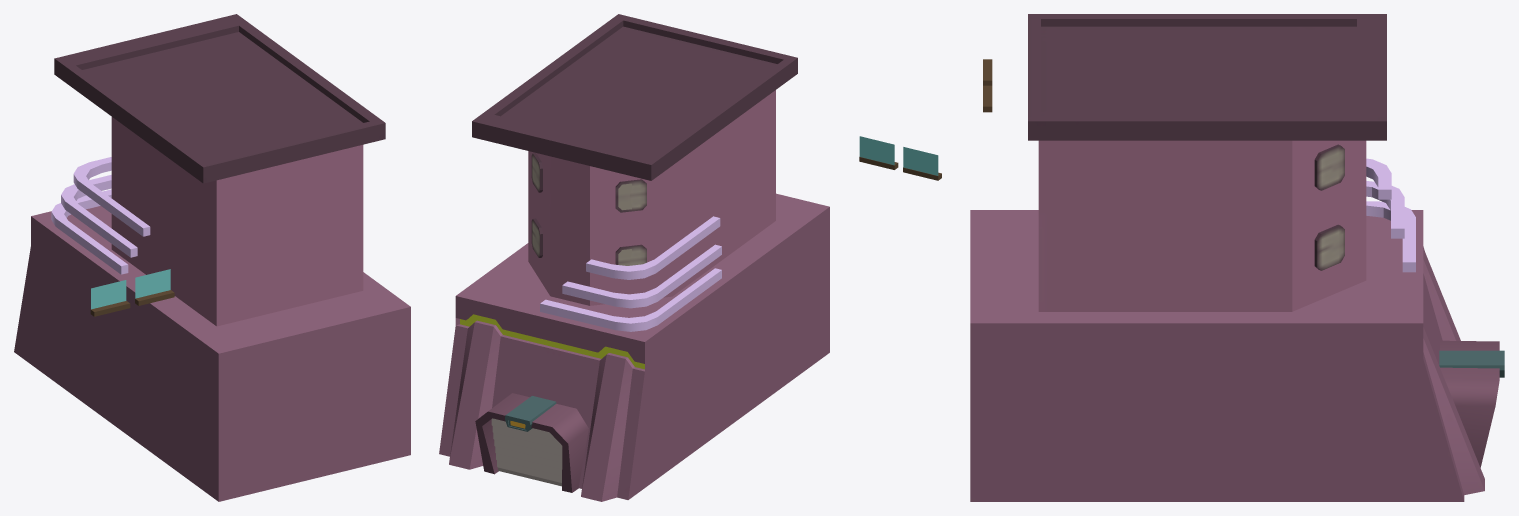
Rendered from SouthEast_House_02.fbx.
3 renders of one model, left to right at view 1: azimuth 30°, elevation 25°; view 2: azimuth 150°, elevation 25°; view 3: azimuth 270°, elevation 25°, orthographic. The views are drawn at different scales.
Parts seen in each view (by area): view 1: SouthEast_House_02; view 2: SouthEast_House_02; view 3: SouthEast_House_02.
Boxes of the visible parts, bbox=[...] form: SouthEast_House_02: bbox=[14, 14, 410, 501]; SouthEast_House_02: bbox=[439, 14, 941, 501]; SouthEast_House_02: bbox=[970, 14, 1504, 501].
Bounding box in the file's own units: 25.94 × 25.18 × 31.99.
Materials: 2 (2 with a texture image).
